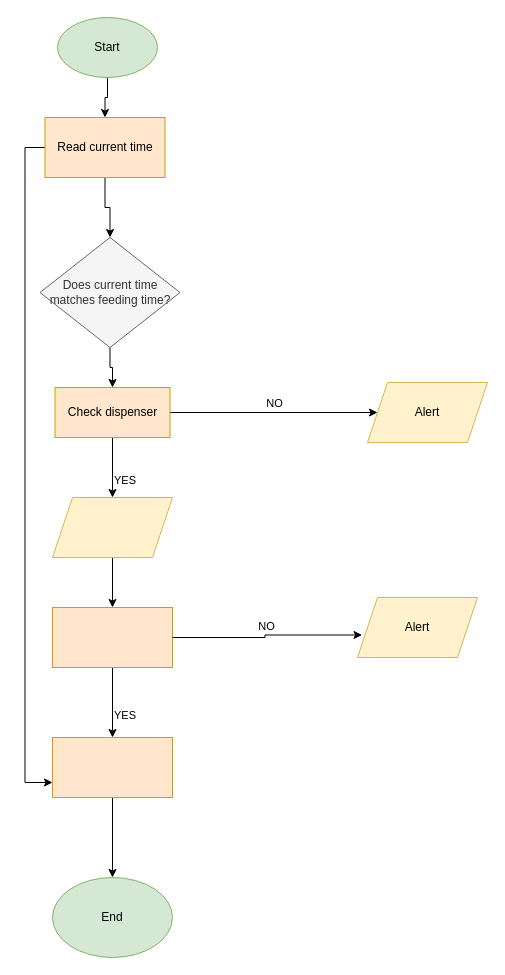
Image size: 505x975. Some labels were removed from this diagram. Each missing label, with the centre of its shape:
"check weight of bowl" belongs at point (112, 637).
"Dispense food" belongs at point (112, 527).
"log the feeding attempt" belongs at point (112, 767).
